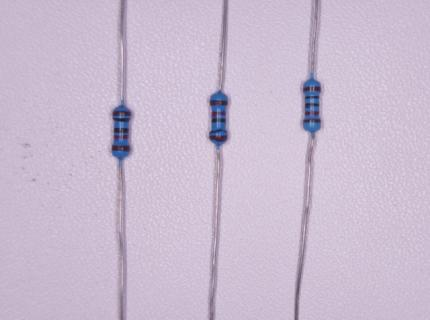Black band: (210, 129, 227, 134), (114, 128, 129, 133), (211, 118, 226, 123), (305, 103, 319, 108), (113, 118, 130, 122), (305, 96, 319, 99)
Brown band: (209, 135, 227, 142), (112, 146, 130, 152), (113, 111, 131, 116), (303, 87, 320, 92), (210, 101, 228, 105), (304, 119, 321, 123)
Red band: (212, 111, 226, 117), (114, 135, 128, 139), (305, 111, 319, 115)
